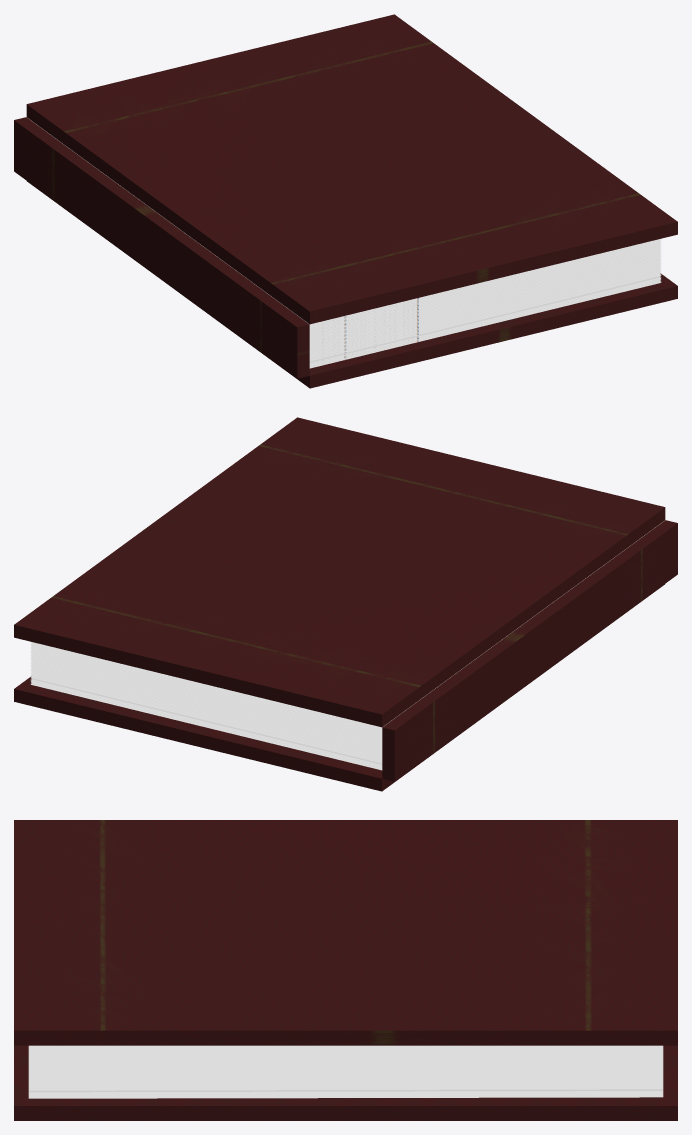
The model's file is book_opening.glb.
3 renders of one model, top to bottom at view 1: azimuth 30°, elevation 25°; view 2: azimuth 150°, elevation 25°; view 3: azimuth 270°, elevation 25°, orthographic. The views are drawn at different scales.
Parts seen in each view (by area): view 1: Cover L, Spine, Cover R, Plane.006, Plane.008, Plane.010, Plane.001, Plane.018, Plane.020, Plane.022, Plane, Plane.002 (+23 smaller); view 2: Cover L, Spine, Cover R, Plane.011, Plane.013, Plane.015, Plane.017, Plane.019, Plane.023, Plane.025, Plane.027, Plane.003 (+22 smaller); view 3: Cover L, Cover R, Plane.007, Plane.028, Plane.020, Plane.015, Plane.002, Plane.012, Plane.023, Plane.025, Plane.010, Plane.004 (+23 smaller).
Part boxes in pixels (x1,y1,x2,y2): Cover L: [26, 14, 677, 324]; Spine: [14, 117, 309, 378]; Cover R: [27, 181, 677, 388]; Plane.006: [309, 273, 661, 360]; Plane.008: [309, 271, 661, 357]; Plane.010: [309, 268, 660, 354]; Plane.001: [309, 280, 661, 366]; Plane.018: [309, 257, 660, 343]; Plane.020: [309, 254, 661, 340]; Plane.022: [309, 251, 661, 337]; Plane: [309, 282, 661, 368]; Plane.002: [309, 279, 660, 365]; Cover L: [14, 417, 665, 727]; Spine: [382, 520, 677, 781]; Cover R: [14, 584, 664, 791]; Plane.011: [30, 668, 382, 754]; Plane.013: [30, 666, 382, 752]; Plane.015: [31, 663, 382, 749]; Plane.017: [30, 660, 382, 746]; Plane.019: [30, 657, 382, 743]; Plane.023: [31, 652, 382, 738]; Plane.025: [30, 649, 382, 735]; Plane.027: [30, 646, 382, 732]; Plane.003: [30, 679, 382, 766]; Cover L: [14, 820, 677, 1045]; Cover R: [14, 1045, 677, 1120]; Plane.007: [28, 1084, 663, 1087]; Plane.028: [28, 1050, 663, 1053]; Plane.020: [28, 1063, 663, 1066]; Plane.015: [28, 1071, 663, 1074]; Plane.002: [28, 1092, 663, 1095]; Plane.012: [28, 1076, 663, 1079]; Plane.023: [28, 1058, 663, 1061]; Plane.025: [28, 1055, 663, 1058]; Plane.010: [28, 1079, 663, 1082]; Plane.004: [28, 1089, 663, 1092].
Size of the model in its own units: 1.55 by 0.3 by 2.
Materials: 2 (2 with a texture image).
